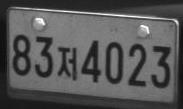0: (103, 40, 124, 84)
2: (127, 42, 147, 87)
3: (150, 44, 171, 88), (34, 35, 54, 78)
4: (80, 39, 101, 83)
8: (11, 33, 31, 76)
저: (57, 46, 77, 81)
